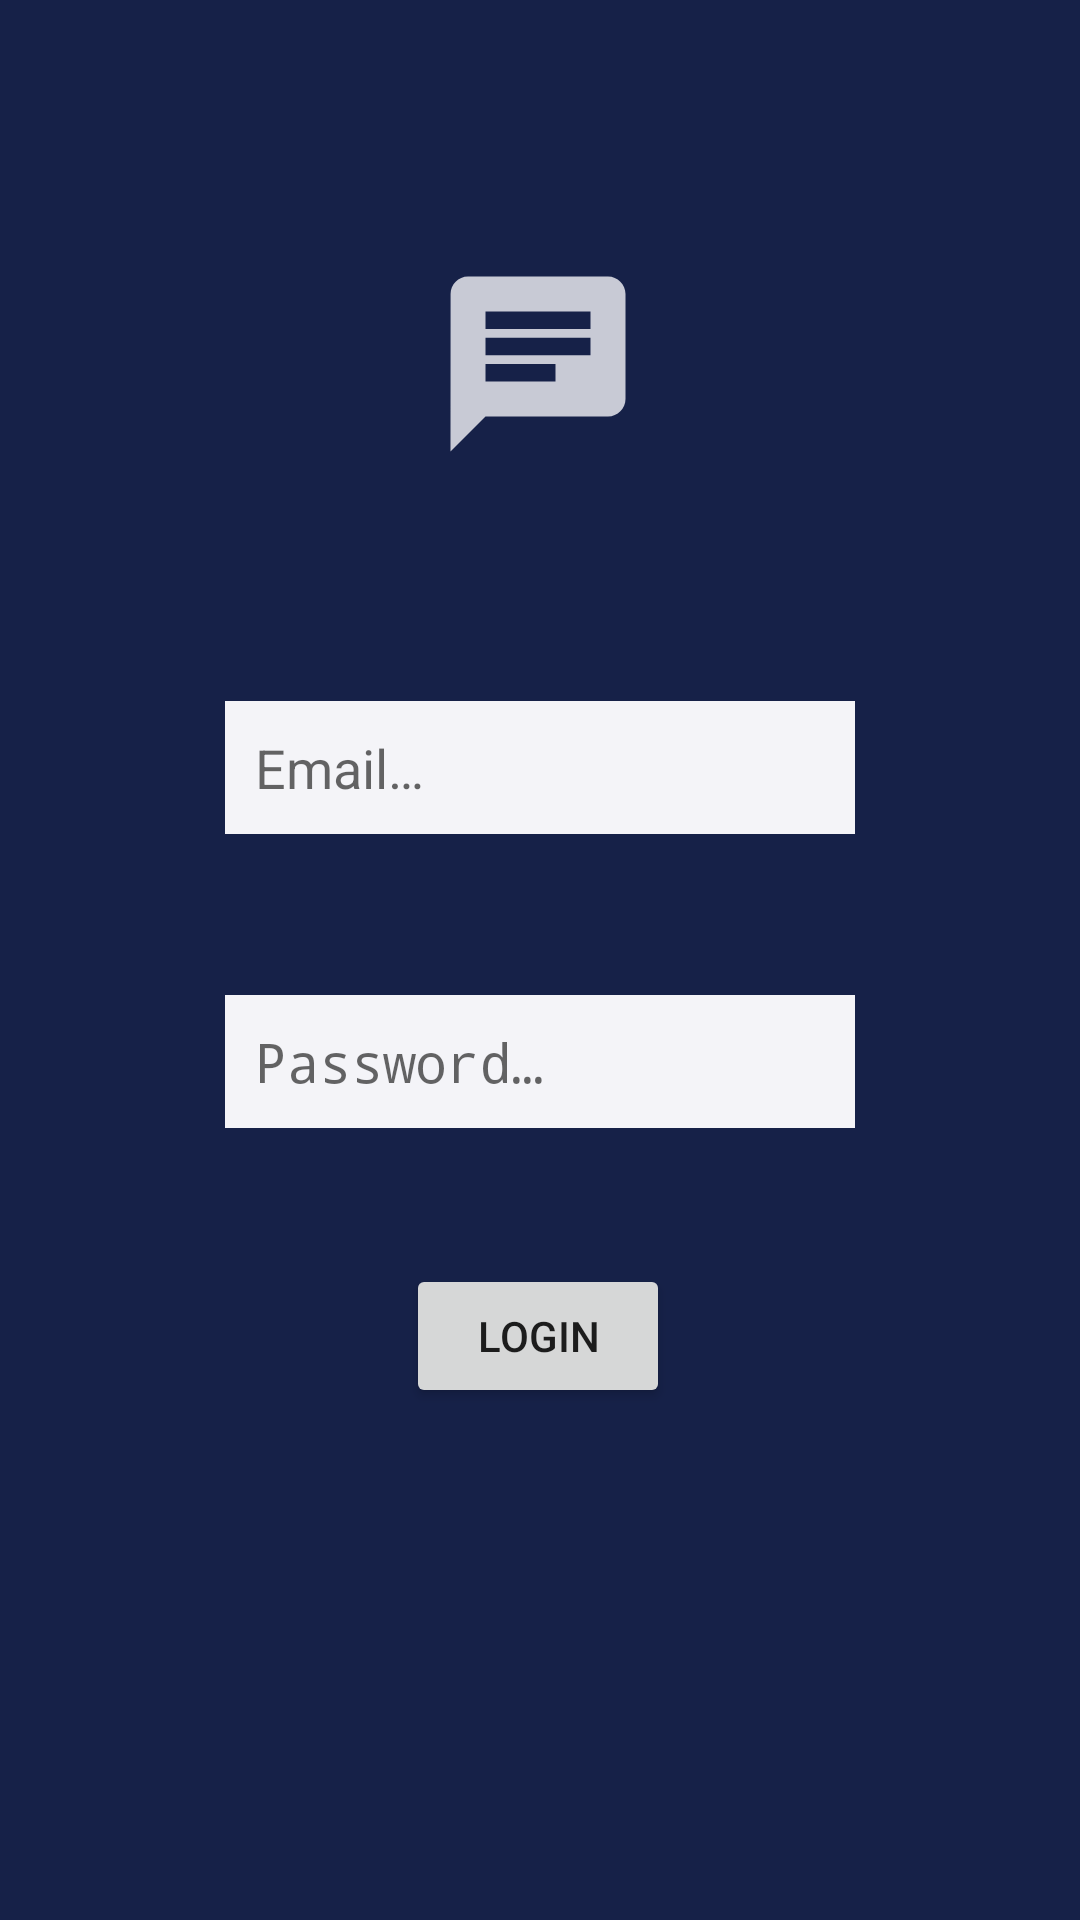

Screen size 1080 x 1920. Icon name, then its center in pixels as [x,y]:
chat: [538,363]
